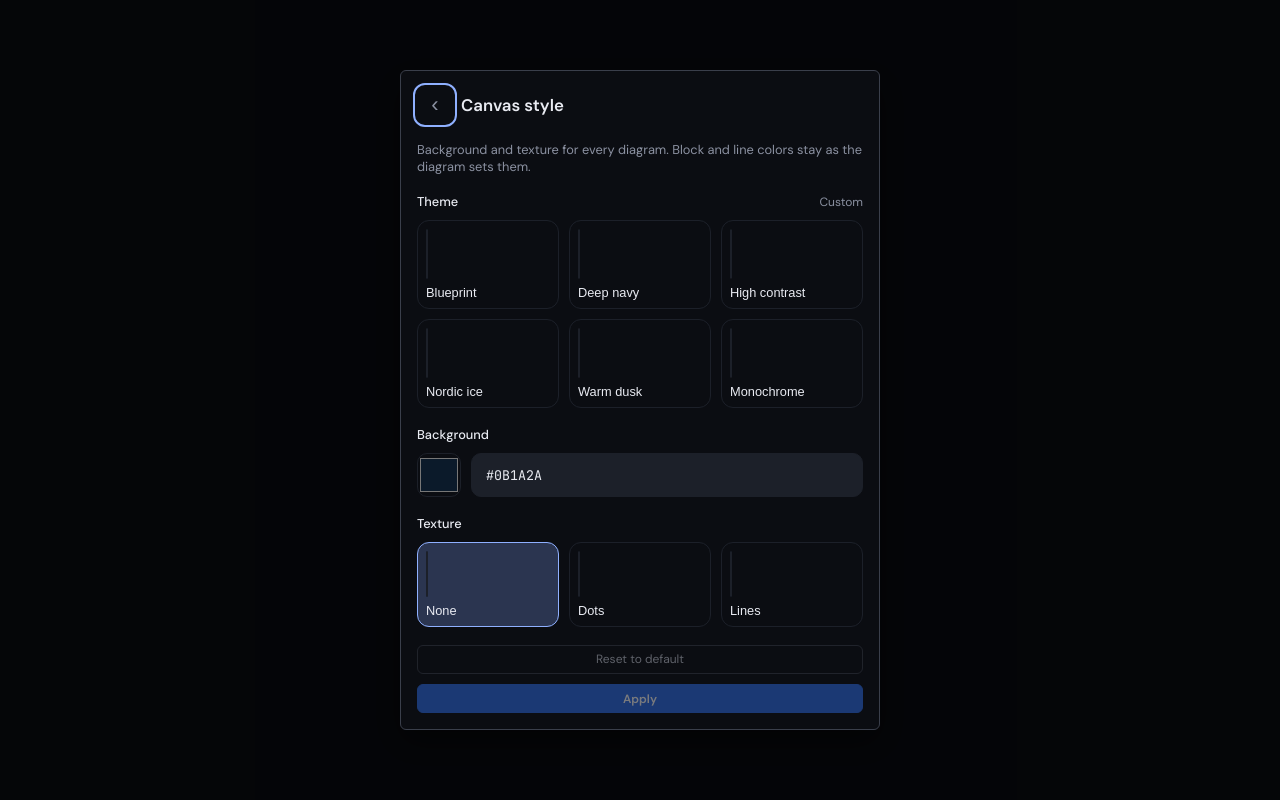
Test: CanvasStylePanel › rejects an invalid hex without applying it
Replace the text in the field with test id "canvas-style-bg-hex" with "#12" at [667, 475], box x1=471 y1=453 x2=863 y2=497
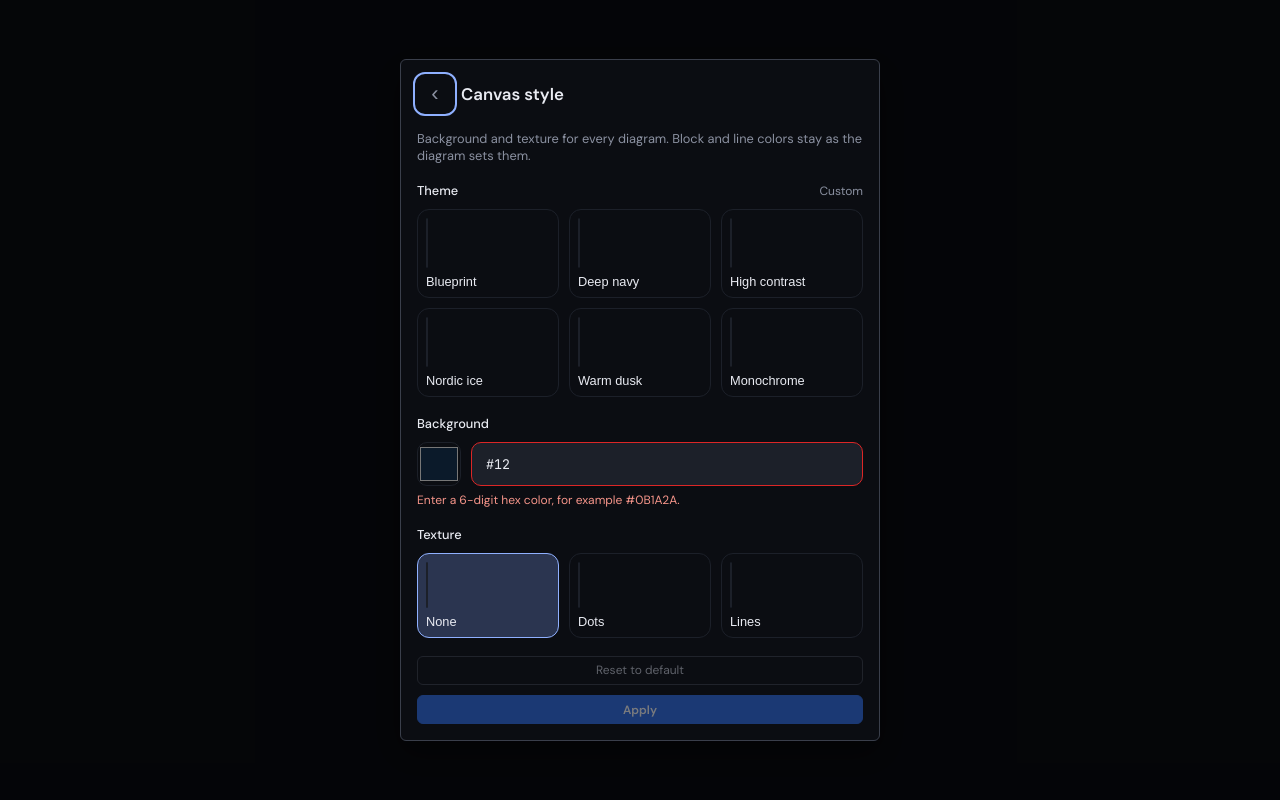
Expected: the text "Enter a 6-digit hex color, for example #0B1A2A." is shown, x1=417 y1=492 x2=680 y2=508
